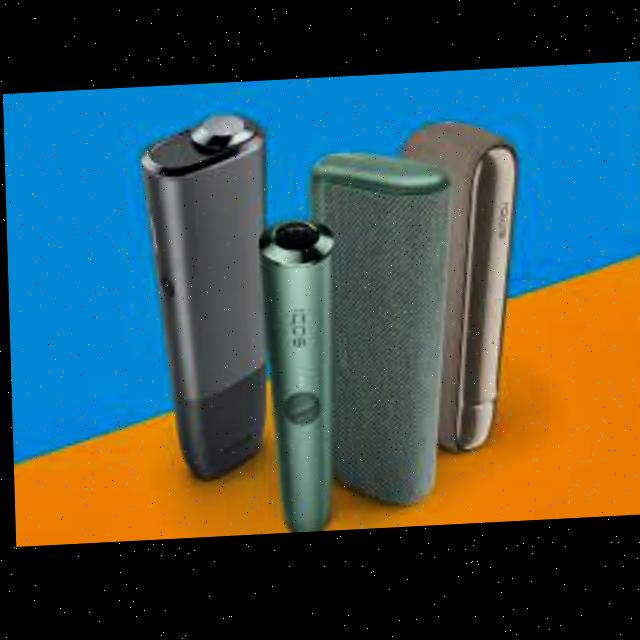vape: (305, 150, 455, 511), (136, 111, 274, 489), (403, 120, 524, 459), (255, 222, 339, 536)
